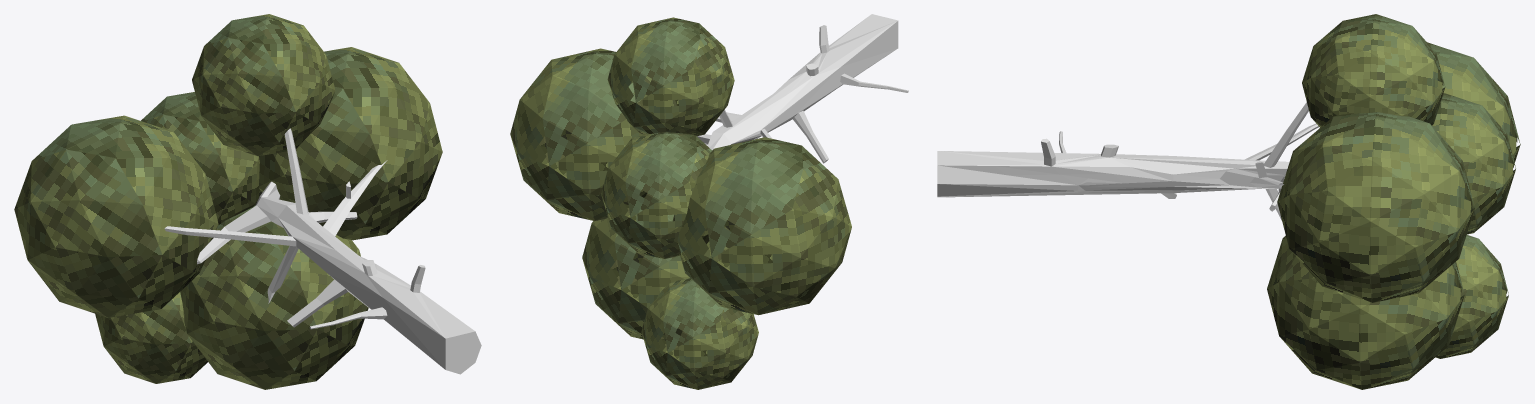
The model's file is Tree.fbx.
3 views of the same model, side by side, from view 1: azimuth 30°, elevation 25°; view 2: azimuth 150°, elevation 25°; view 3: azimuth 270°, elevation 25° (orthographic). The views are drawn at different scales.
Visible parts, largest first — view 1: Tree; view 2: Tree; view 3: Tree.
Boxes of the visible parts, x1=… form: Tree: x1=14, y1=14, x2=481, y2=389; Tree: x1=510, y1=14, x2=908, y2=389; Tree: x1=937, y1=14, x2=1520, y2=389.
Size of the model in its own units: 572 by 537 by 775.
